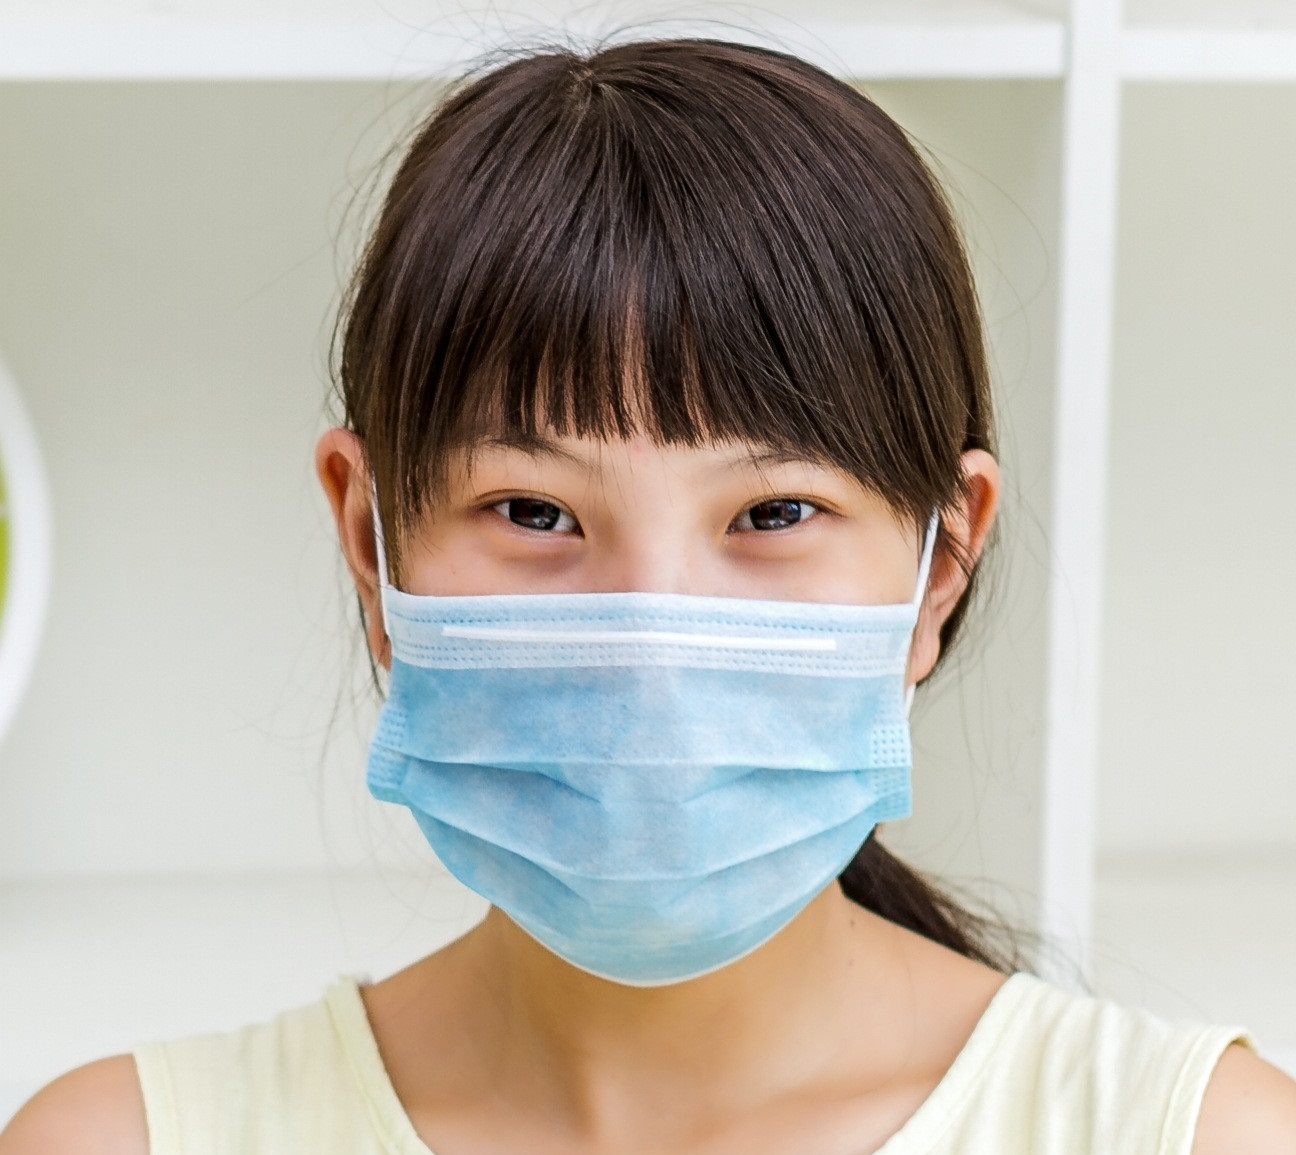face_mask: (392, 298, 912, 922)
